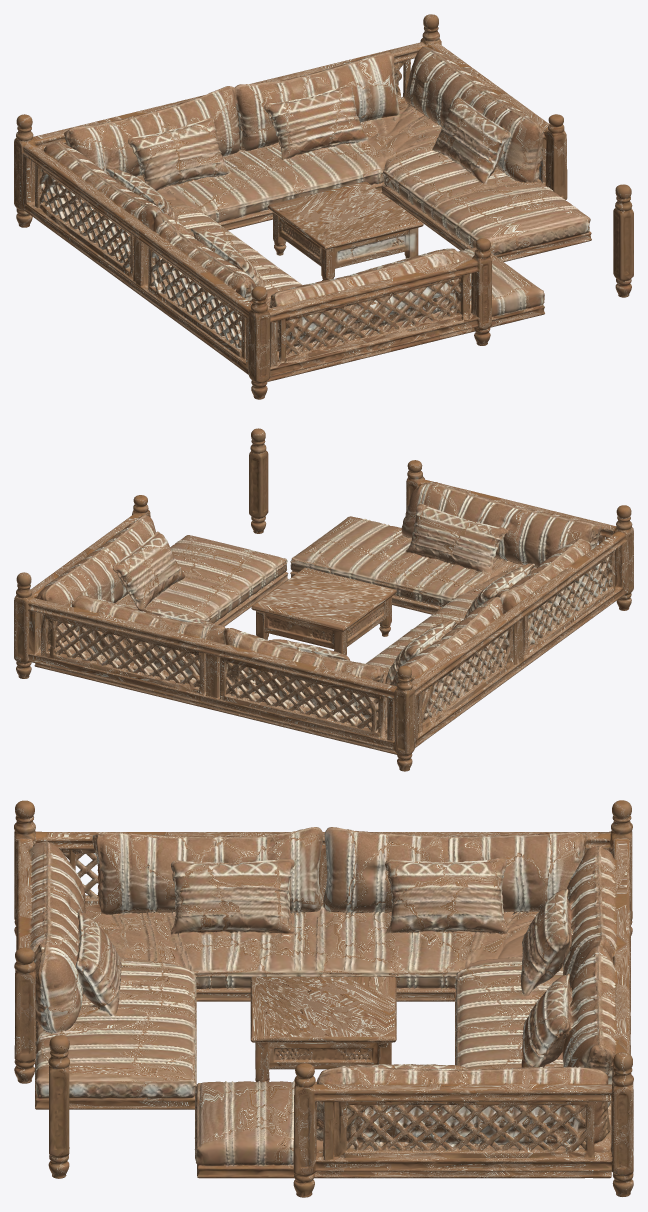
The model's file is majlisset.glb.
3 renders of one model, top to bottom at view 1: azimuth 30°, elevation 25°; view 2: azimuth 150°, elevation 25°; view 3: azimuth 270°, elevation 25°, orthographic. The views are drawn at different scales.
Size of the model in its own units: 1.9 by 0.4772 by 1.9.
1 material, 1 textured.
